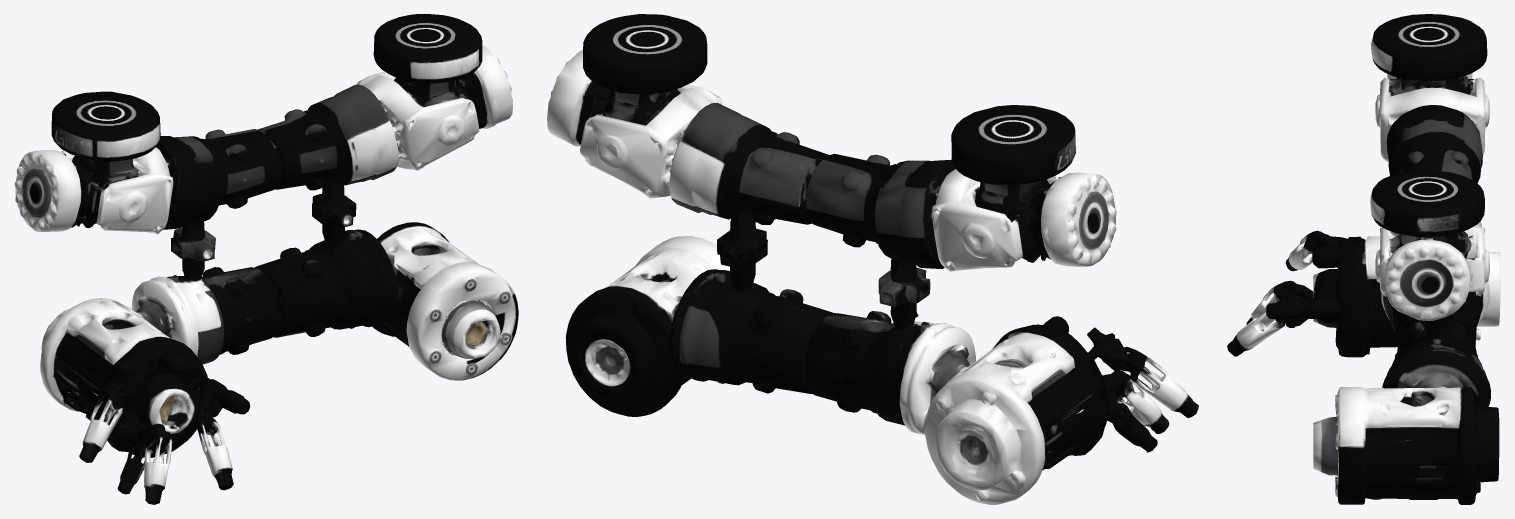
Rendered from armseg.glb.
3 renders of one model, left to right at view 1: azimuth 30°, elevation 25°; view 2: azimuth 150°, elevation 25°; view 3: azimuth 270°, elevation 25°, orthographic. The views are drawn at different scales.
Size of the model in its own units: 1.9 by 1.19 by 0.9326.
1 material, 1 textured.
